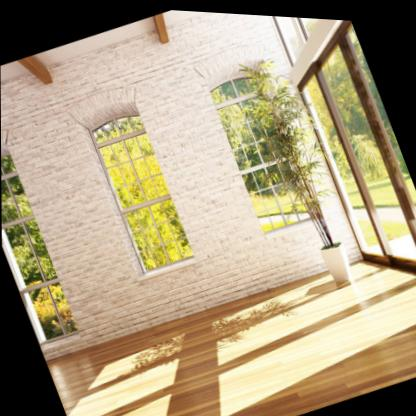Window: (208, 67, 318, 237), (86, 106, 194, 276), (1, 142, 81, 348)
